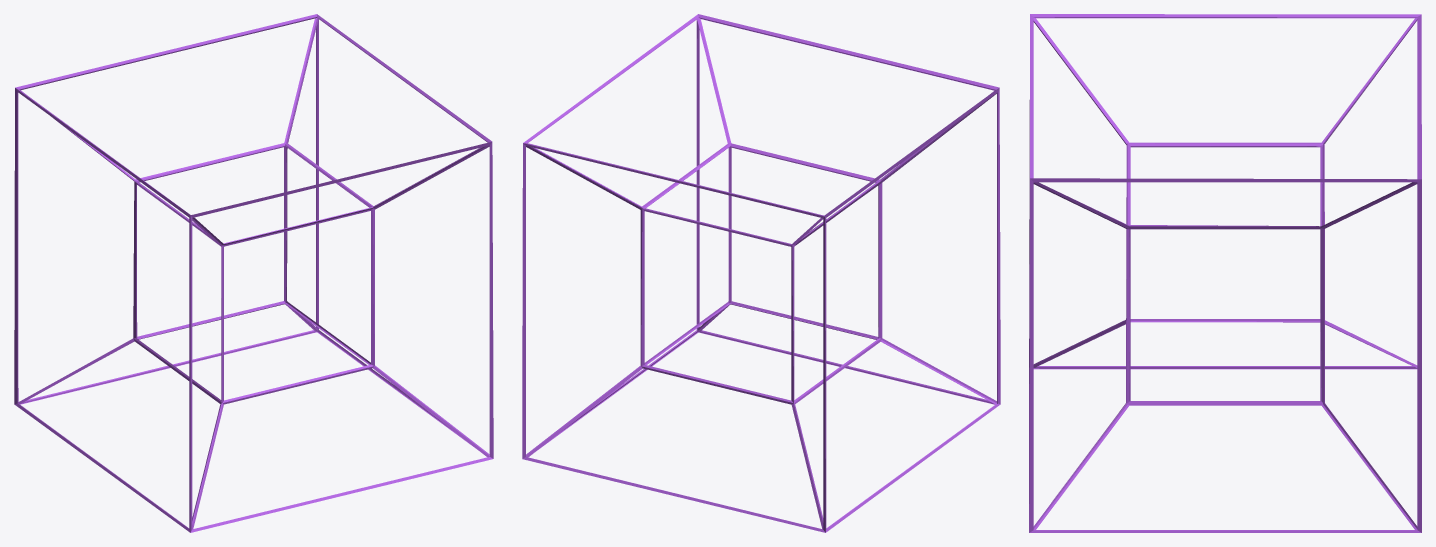
The model's file is hypercube.glb.
The picture shows the model from 3 angles, left to right: view 1: azimuth 30°, elevation 25°; view 2: azimuth 150°, elevation 25°; view 3: azimuth 270°, elevation 25°; orthographic projection. The views are drawn at different scales.
Visible parts, largest first — view 1: Cube; view 2: Cube; view 3: Cube.
Part boxes in pixels (x1=…): Cube: x1=14, y1=14, x2=493, y2=532; Cube: x1=522, y1=14, x2=1000, y2=532; Cube: x1=1029, y1=14, x2=1421, y2=532.
Size of the model in its own units: 4.03 by 4.02 by 4.04.
